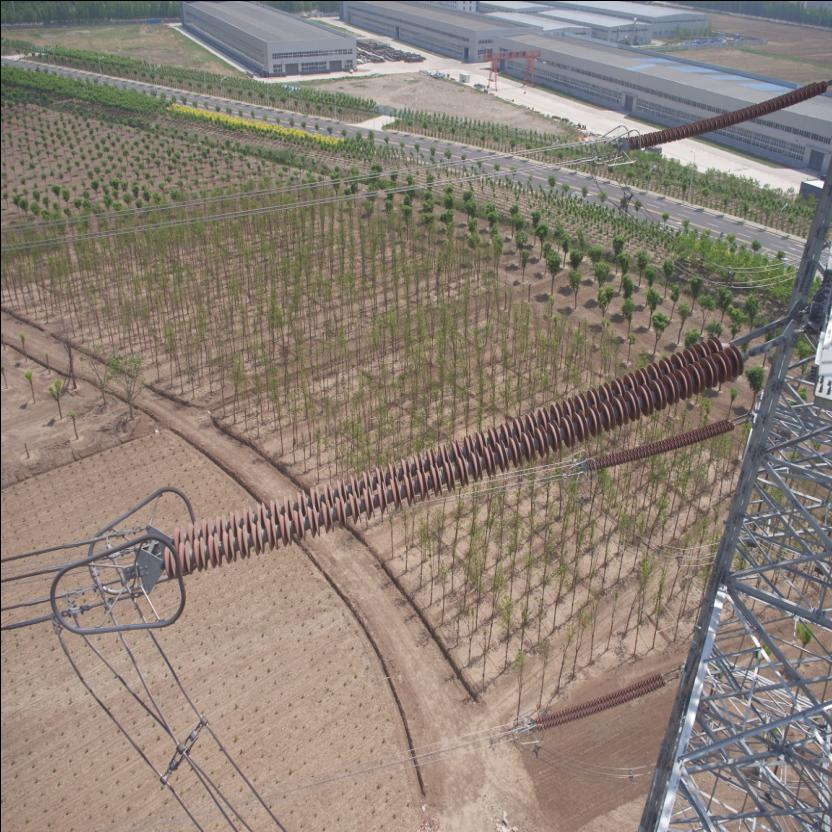insulator: (148, 326, 772, 584), (619, 72, 831, 152), (530, 666, 672, 732)
